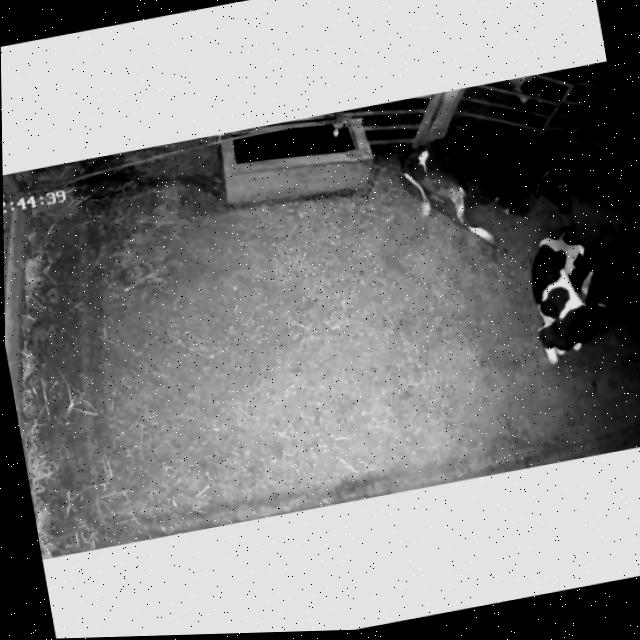lay: (387, 100, 592, 265), (509, 213, 626, 380)
